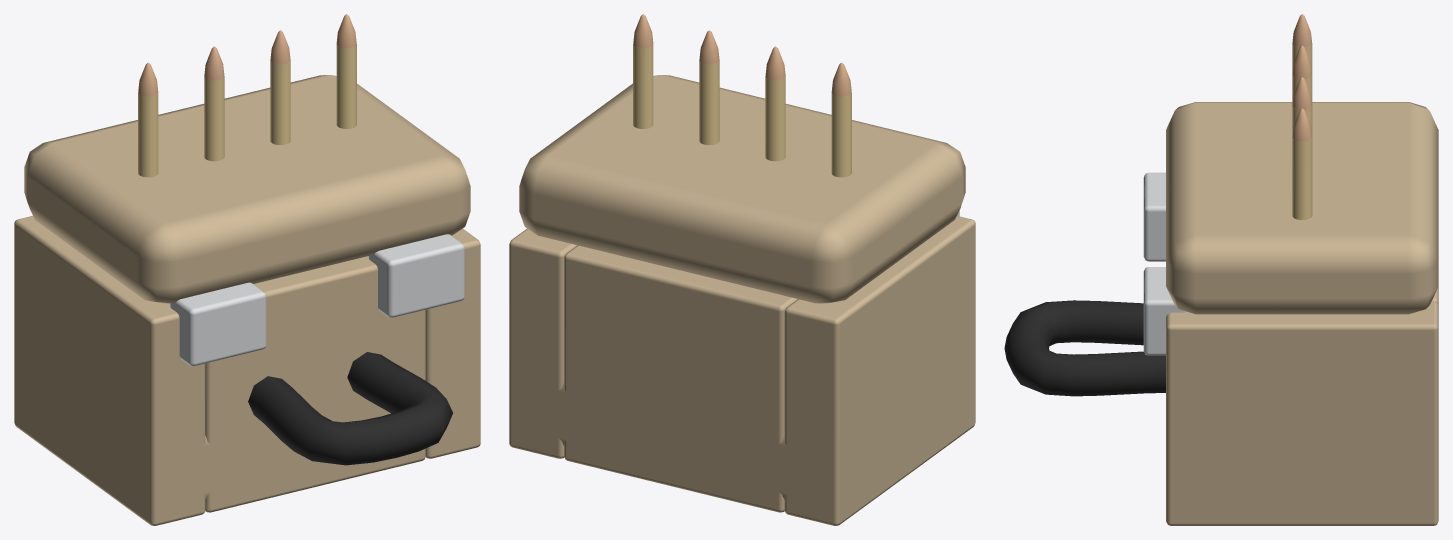
File: fps-weapon-set-and-firing-range-pistol-ammo-box-e3b9201d__19481.glb
3 views of the same model, side by side, from view 1: azimuth 30°, elevation 25°; view 2: azimuth 150°, elevation 25°; view 3: azimuth 270°, elevation 25° (orthographic). The views are drawn at different scales.
Parts seen in each view (by area): view 1: pistol-ammo-box, lid; view 2: pistol-ammo-box, lid; view 3: pistol-ammo-box, lid.
Boxes of the visible parts, <box> form: pistol-ammo-box: <box>14,14,480,525</box>; lid: <box>24,75,470,303</box>; pistol-ammo-box: <box>509,14,975,525</box>; lid: <box>519,75,965,303</box>; pistol-ammo-box: <box>1004,14,1438,525</box>; lid: <box>1166,102,1438,314</box>.
Size of the model in its own units: 0.15 by 0.173 by 0.1753.
